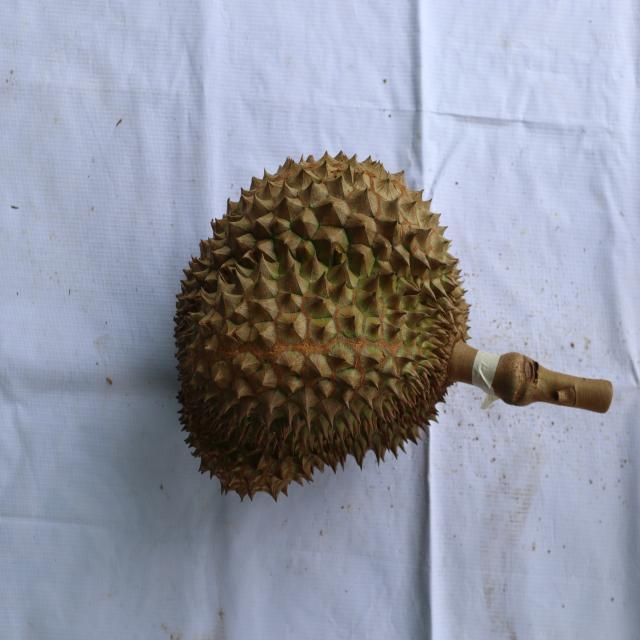mature: (171, 146, 471, 508)
